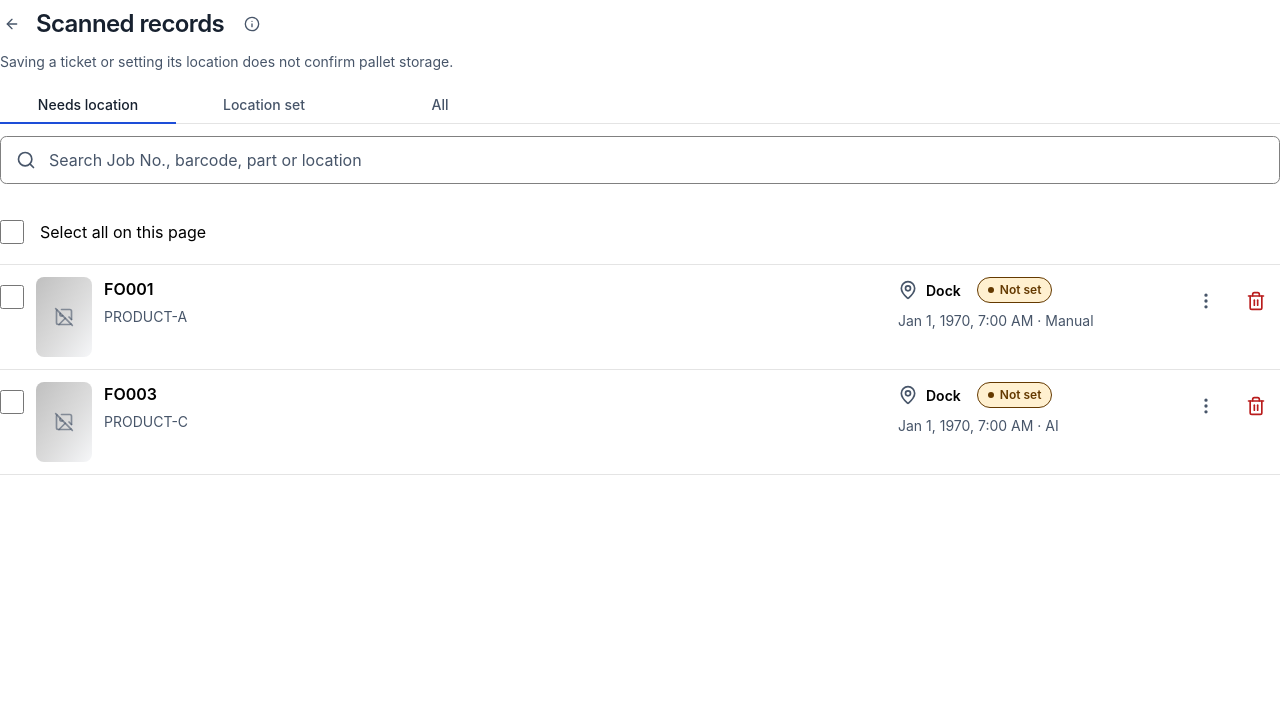
scanned record deletion › confirms individual deletion and lets the user cancel without deleting
Click the button named "Delete record FO001".
click(1256, 301)  # box [1232, 277, 1279, 325]
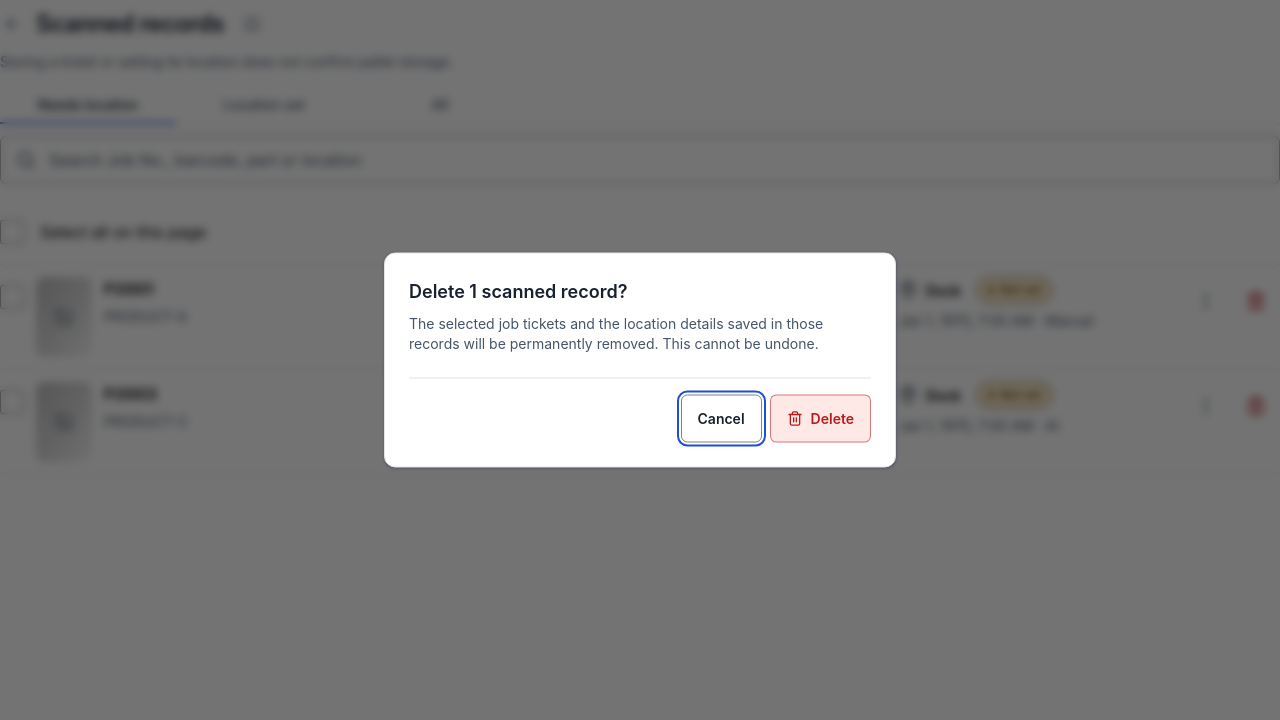
Click the button "Cancel".
click(721, 418)  # box [680, 394, 762, 442]
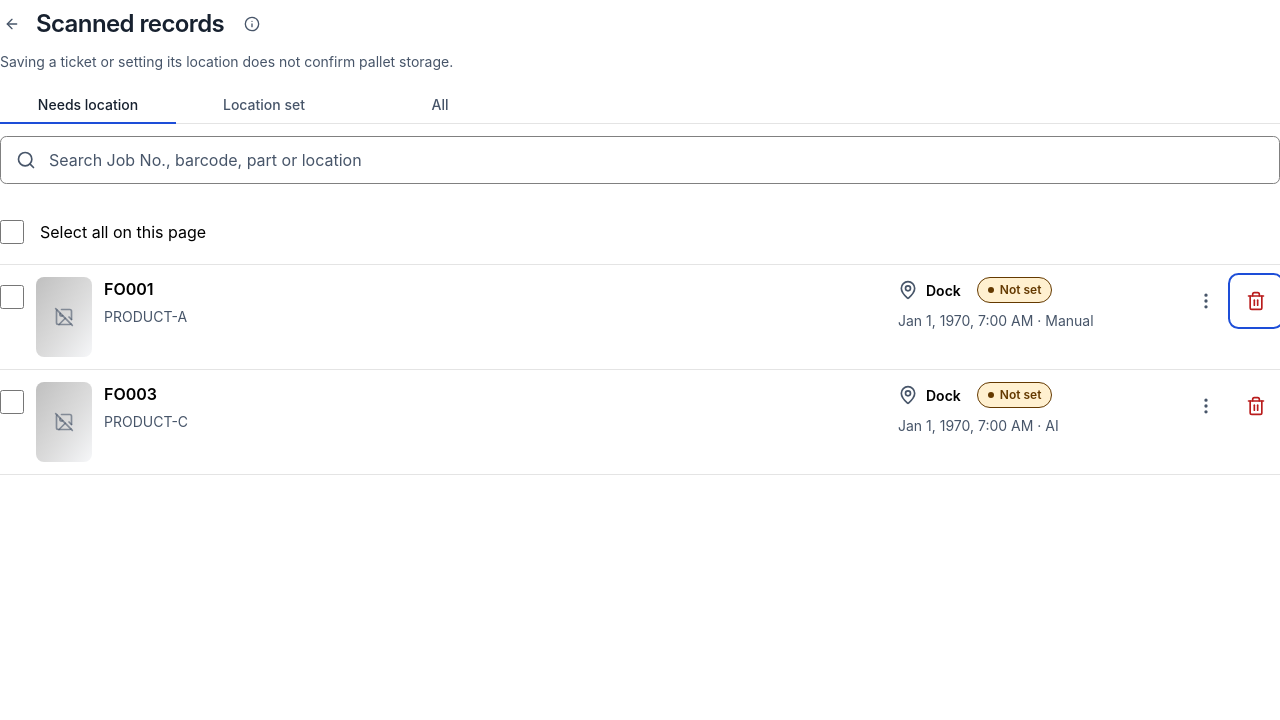
expect the heading "Delete 1 scanned record?" is gone: met
Click the button named "Delete record FO001".
click(1256, 301)  # box [1232, 277, 1279, 325]
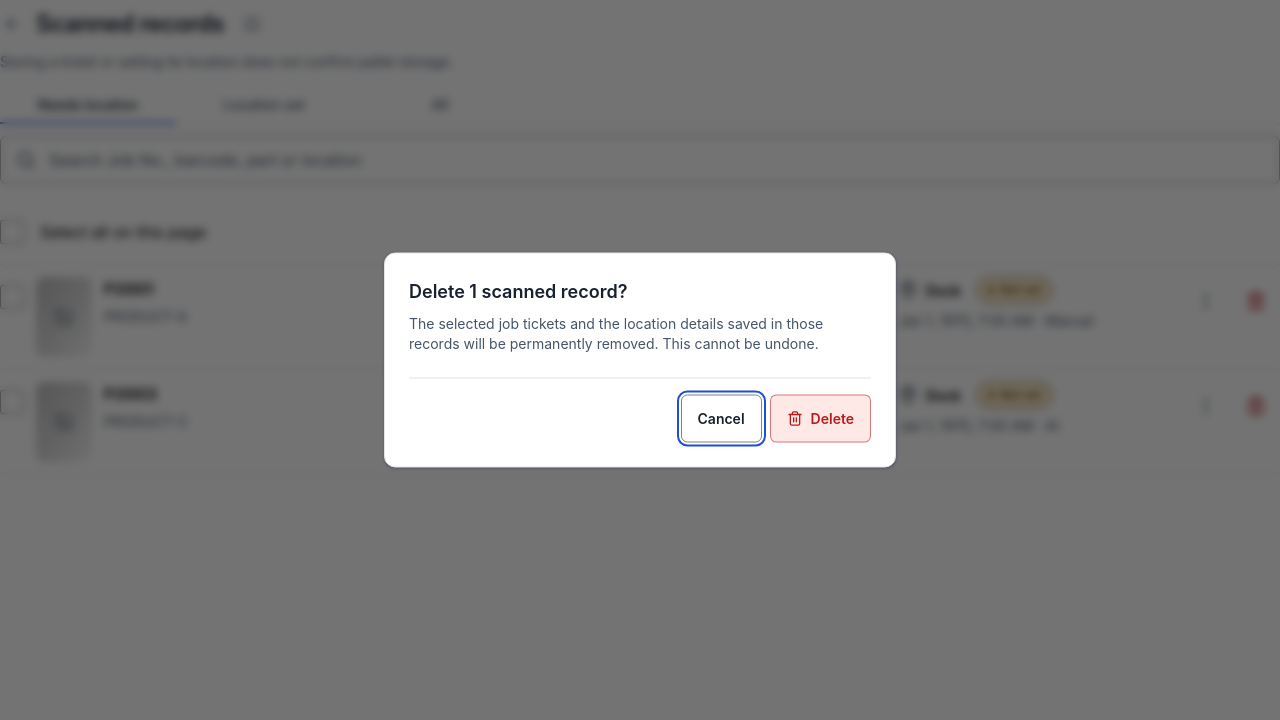
Click the button "Delete".
click(820, 418)  # box [770, 394, 871, 442]
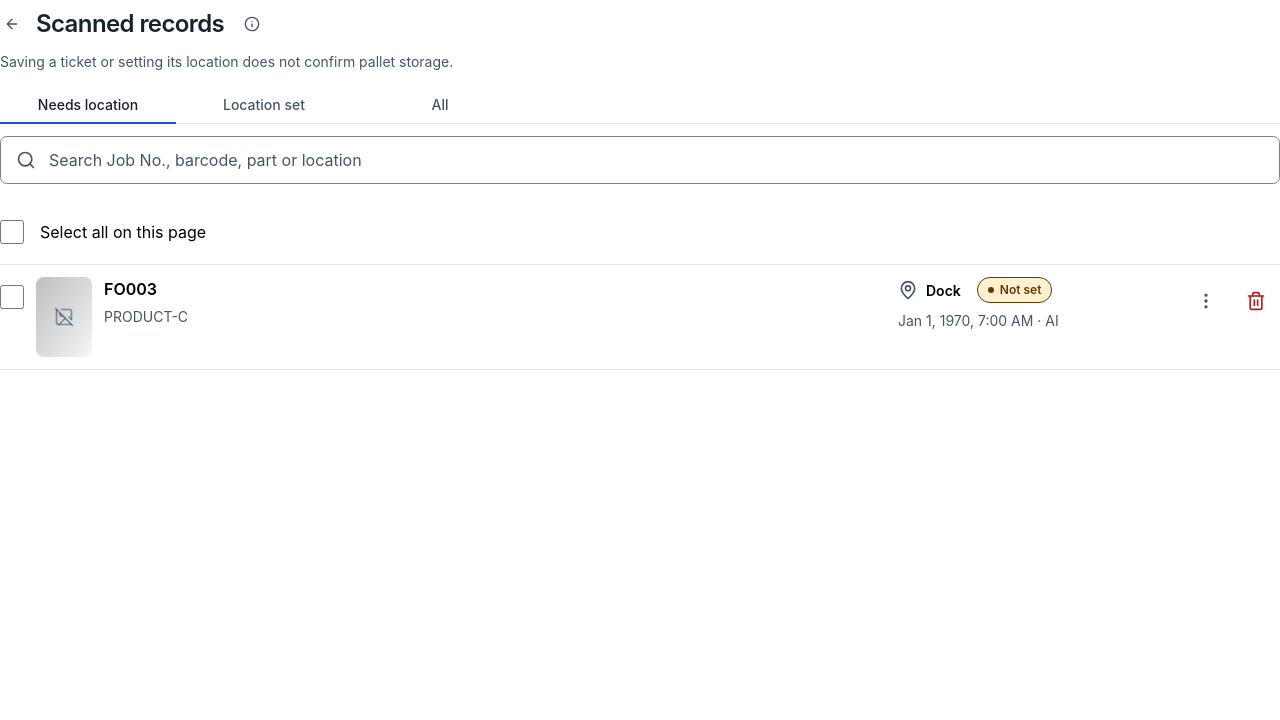
expect the text "FO003" is shown: met, box [104, 279, 157, 299]
expect the text "FO001" is gone: met
